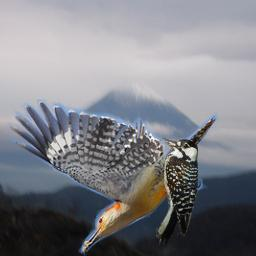Woodpecker: (7, 99, 218, 256), (156, 137, 198, 251)
